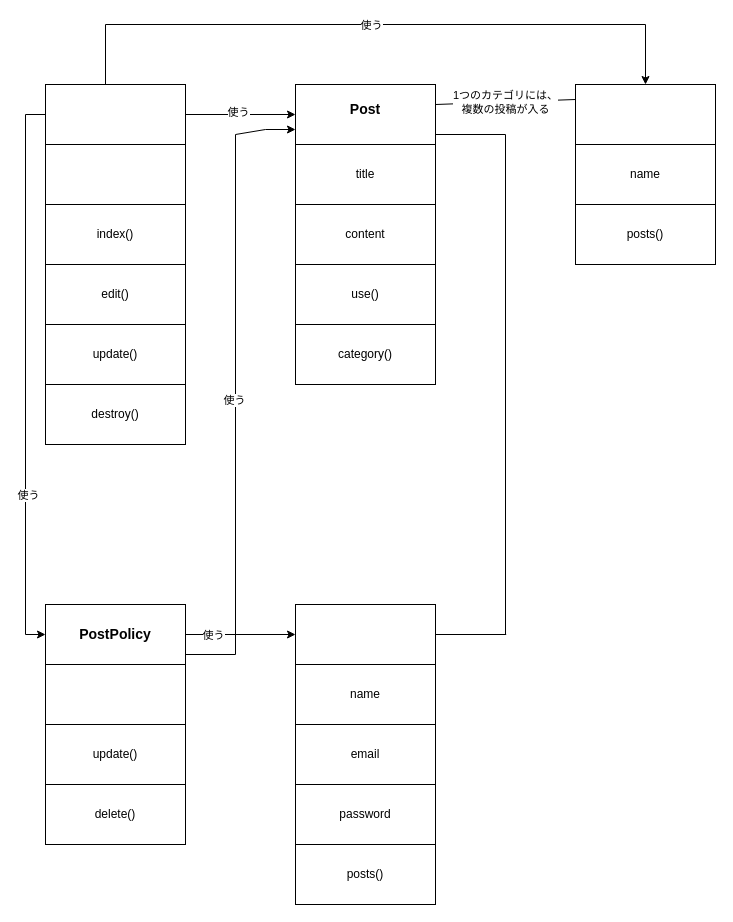
Image size: 733x922. Some labels were removed from this diagram. The centre of each missing label's shape, as x and y in pixels:
"Cat egory" goes at point (645, 114).
"PostController" goes at point (115, 114).
"User" goes at point (365, 634).
